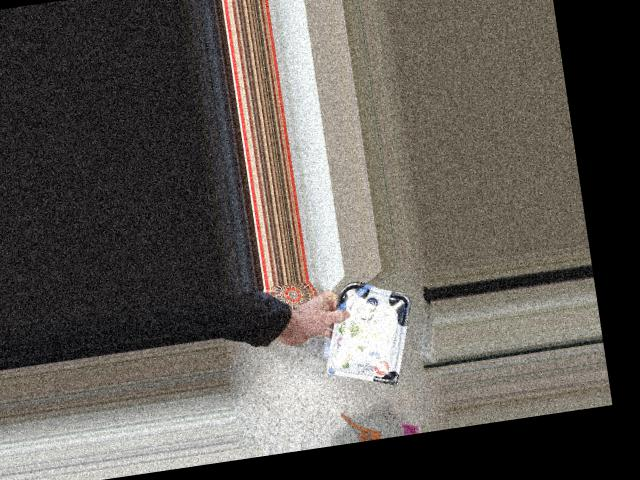cheese: (332, 281, 410, 379)
